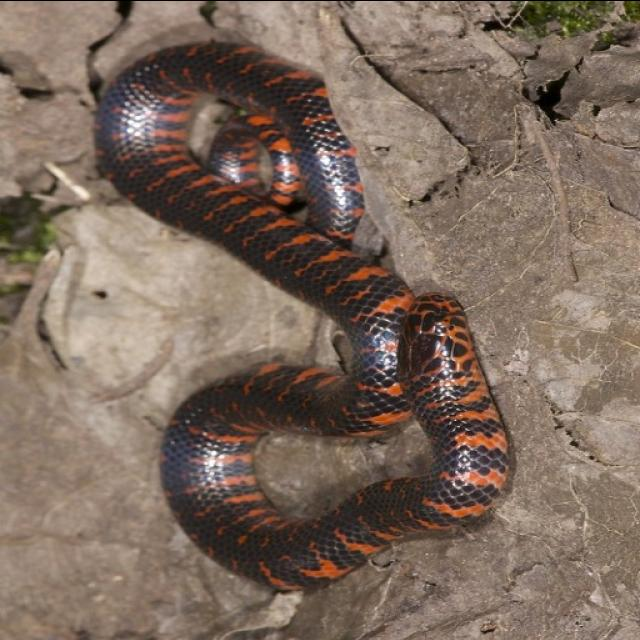snake: (86, 31, 514, 597)
